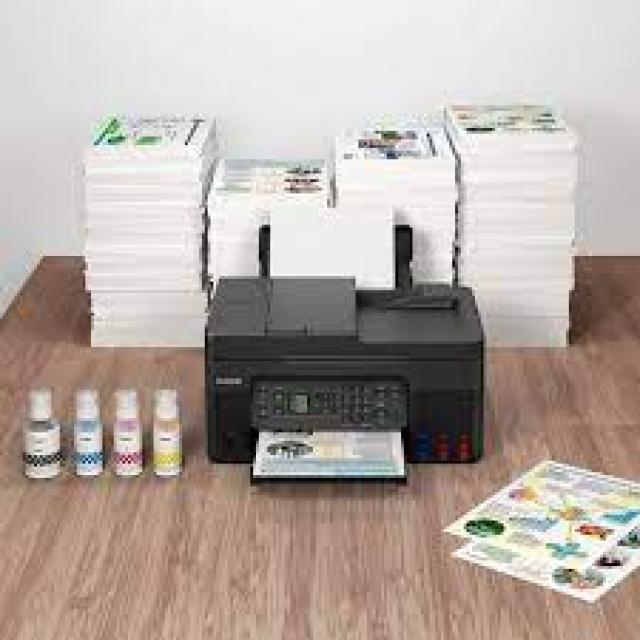printer: (190, 197, 502, 498)
